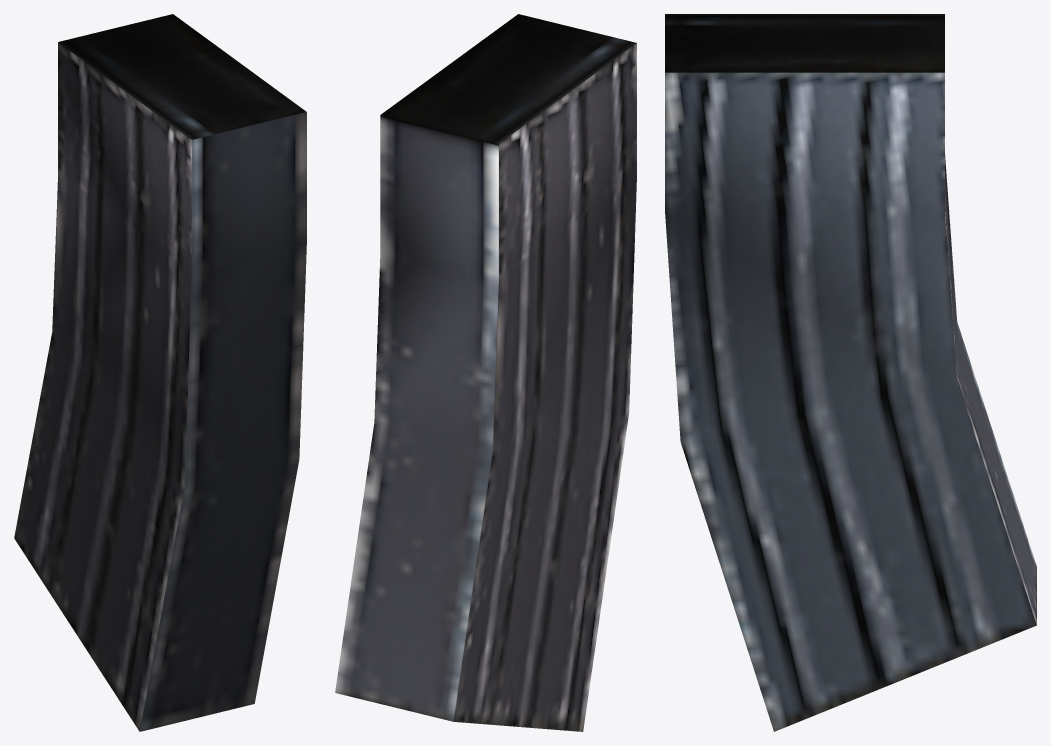
The model's file is STANAG.fbx.
The picture shows the model from 3 angles, left to right: view 1: azimuth 30°, elevation 25°; view 2: azimuth 150°, elevation 25°; view 3: azimuth 270°, elevation 25°; orthographic projection. The views are drawn at different scales.
Visible parts, largest first — view 1: Stanag_Mag; view 2: Stanag_Mag; view 3: Stanag_Mag.
Boxes of the visible parts, box(x1,y1,x2,y2) form: Stanag_Mag: box(14, 14, 306, 731); Stanag_Mag: box(335, 14, 636, 731); Stanag_Mag: box(665, 14, 1036, 731).
Size of the model in its own units: 0.0188 by 0.0504 by 0.0985.
